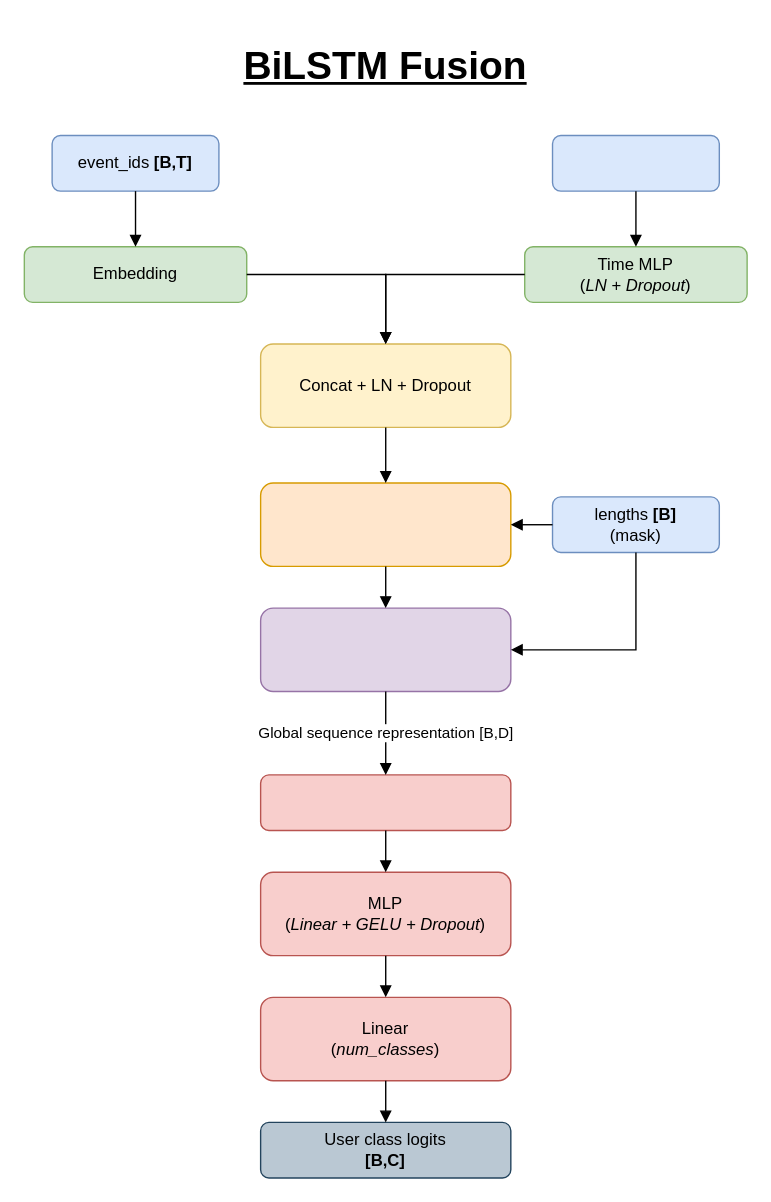
The diagram is 771 pixels wide and 1202 high, and some of its shapes have lost their labels. The box of each missing label's shape, as (x1, y1, x2, y2) in pixels:
Attention Pooling (with mask): (259, 607, 511, 692)
BiLSTM ( pack/unpack ): (259, 482, 511, 566)
LayerNorm: (259, 774, 511, 831)
time_feats [B,T,K]: (551, 134, 719, 191)
